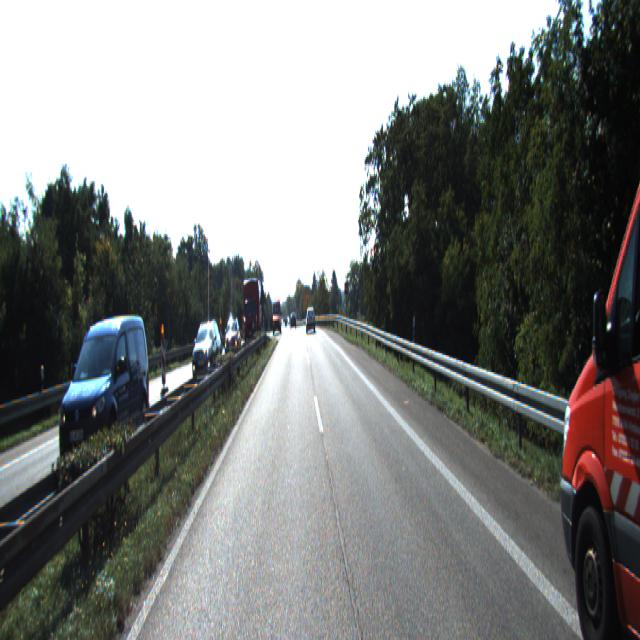Car: (544, 39, 640, 638), (60, 311, 154, 459), (190, 321, 222, 384), (241, 275, 262, 345), (224, 313, 242, 358), (306, 308, 315, 332)
